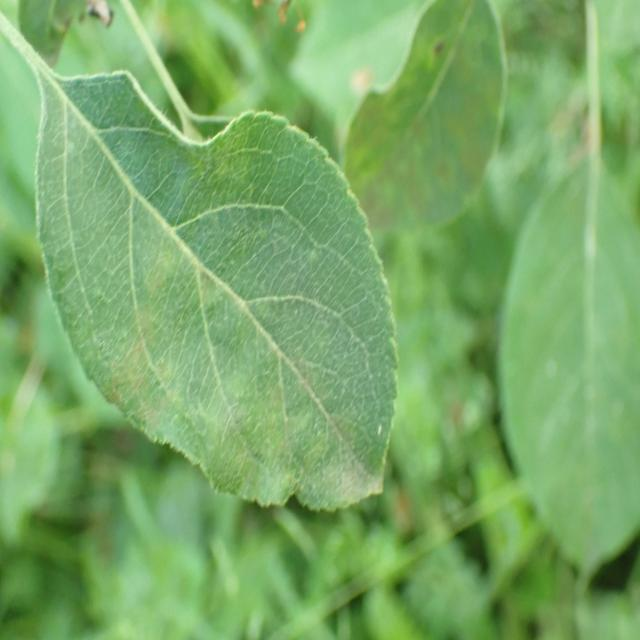scab: (37, 95, 381, 486)
